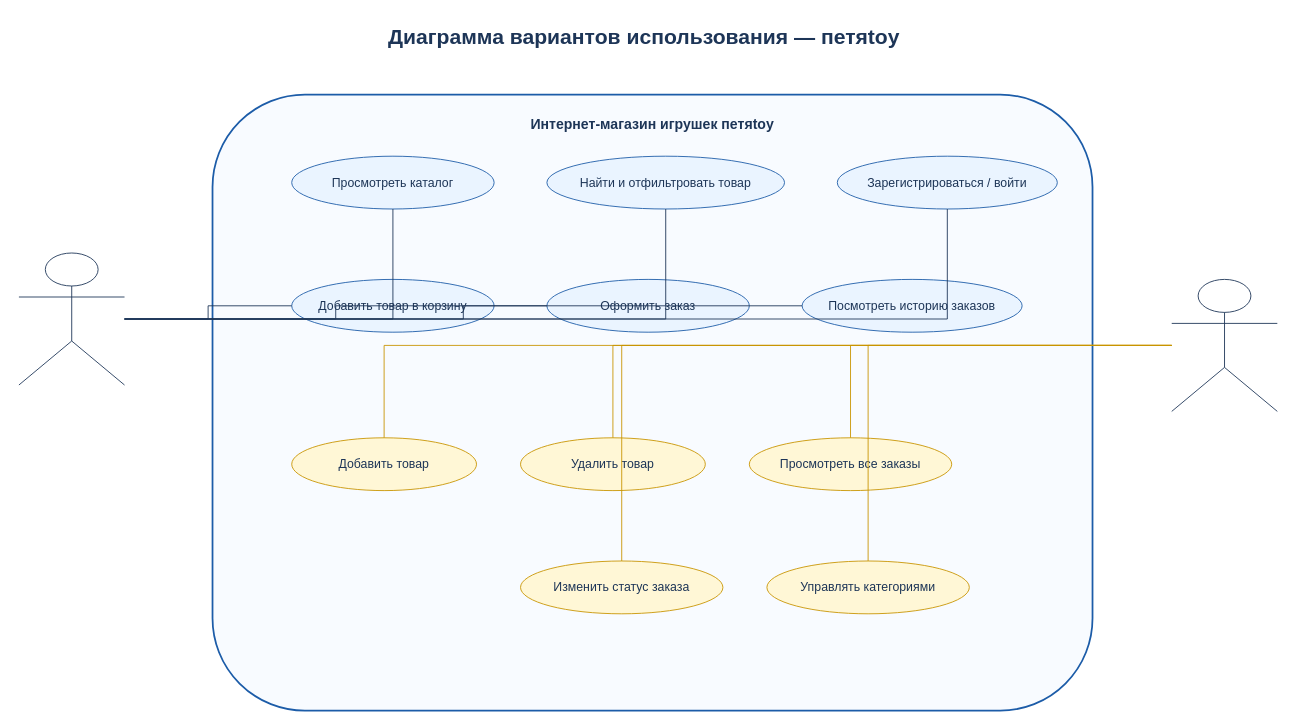
This 1293x726 diagram has some shape labels left out. The centre of each missing label's shape, as x and y in pixels:
"Администратор" goes at [1224,345].
"Гость / покупатель" goes at [71,318].
